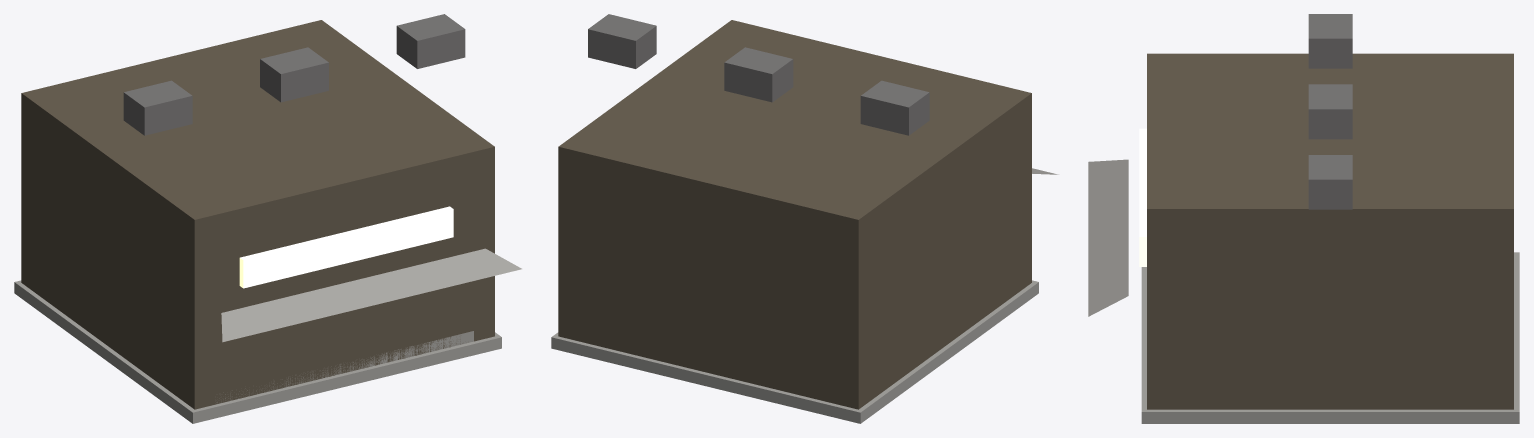
The model's file is b_shop1.glb.
3 views of the same model, side by side, from view 1: azimuth 30°, elevation 25°; view 2: azimuth 150°, elevation 25°; view 3: azimuth 270°, elevation 25° (orthographic). The views are drawn at different scales.
Visible parts, largest first — view 1: Building; view 2: Building; view 3: Building.
Part boxes in pixels (x1,y1,x2,y2): Building: (14, 14, 521, 423); Building: (551, 14, 1058, 423); Building: (1088, 14, 1519, 423).
Size of the model in its own units: 11.71 by 8 by 11.75.
Materials: 6 (2 with a texture image).
